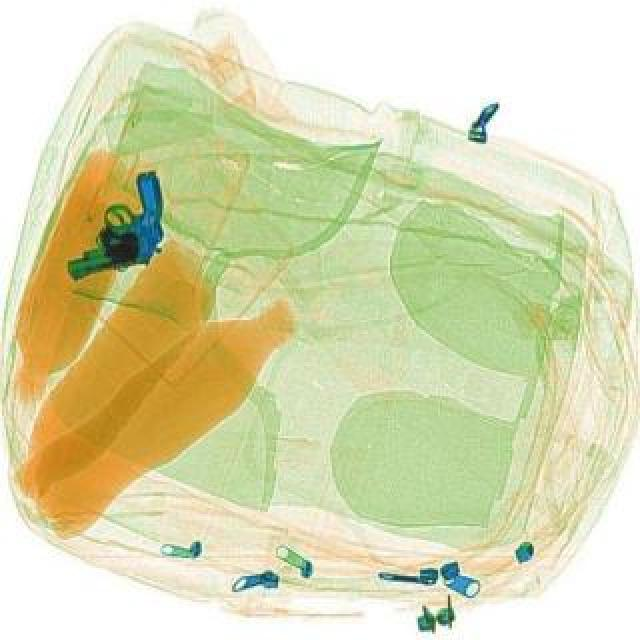gun: (58, 150, 190, 302)
